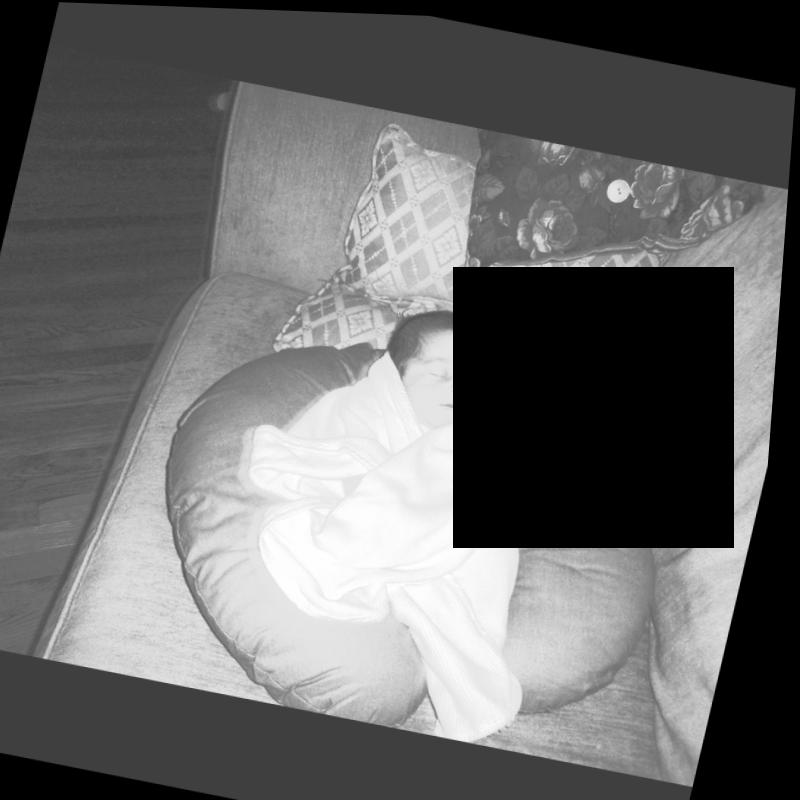pillow: (450, 124, 780, 324), (271, 265, 624, 416)
